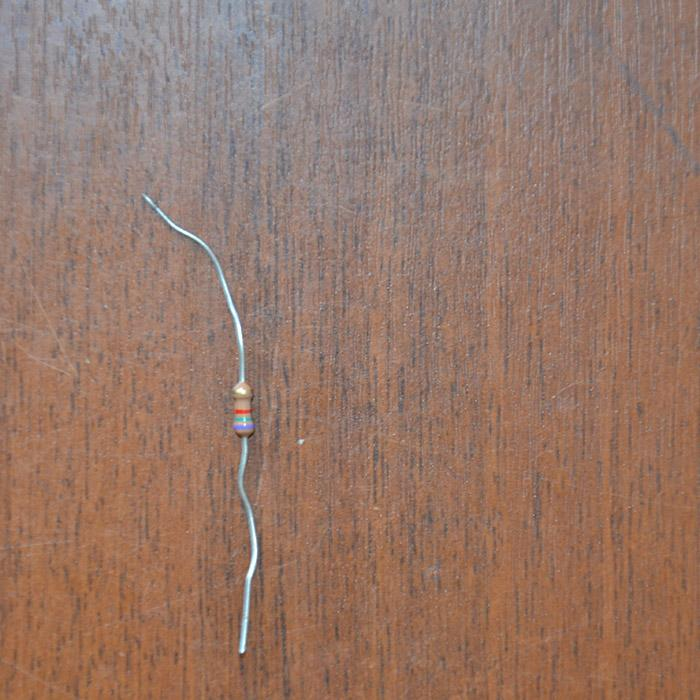resistor: (231, 380, 255, 438)
